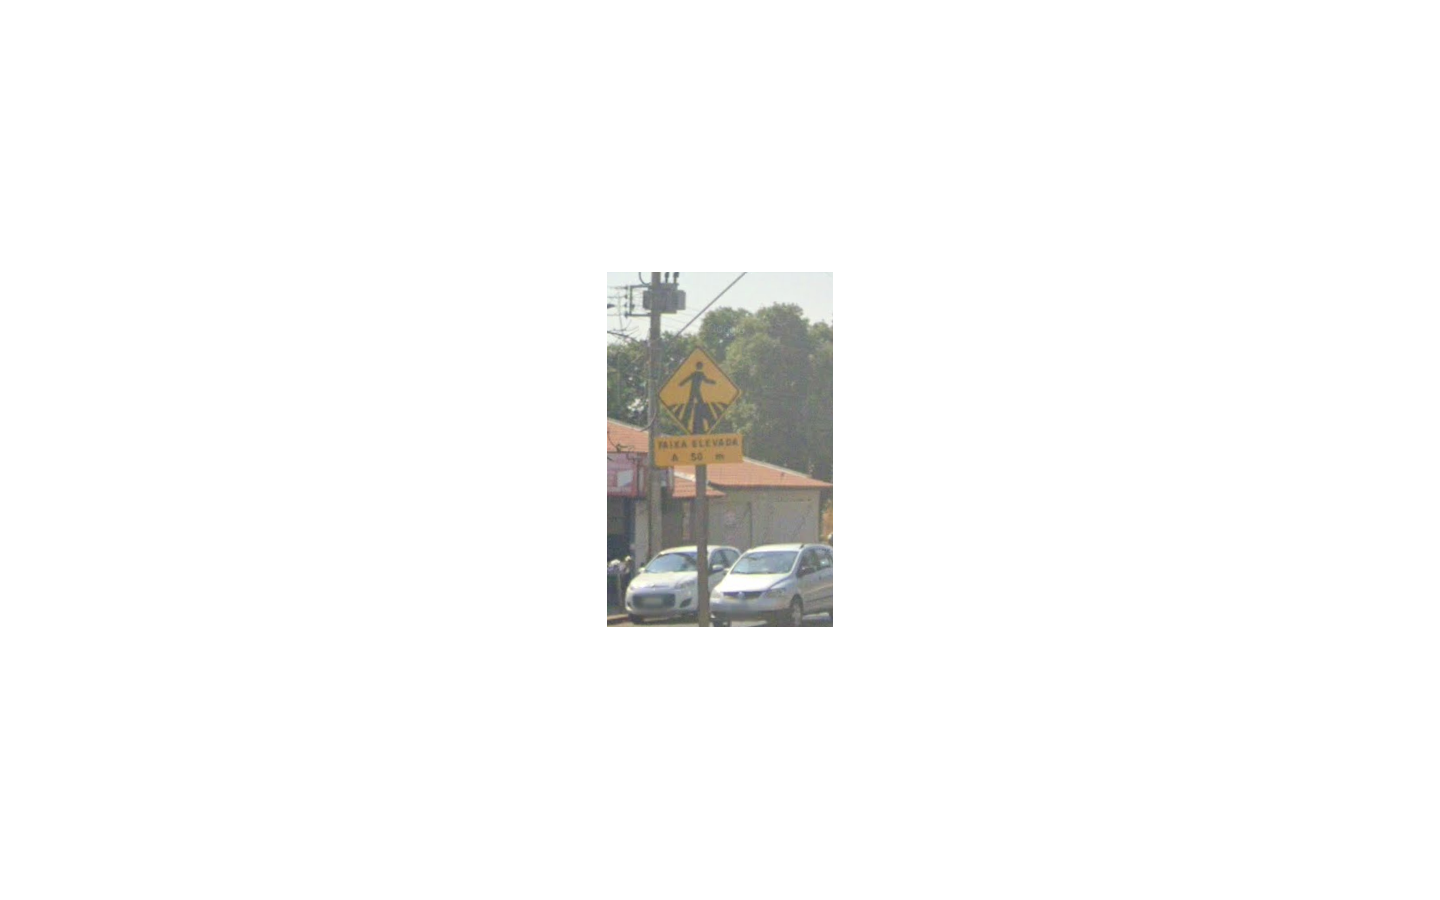t50m: (652, 348, 746, 468)
